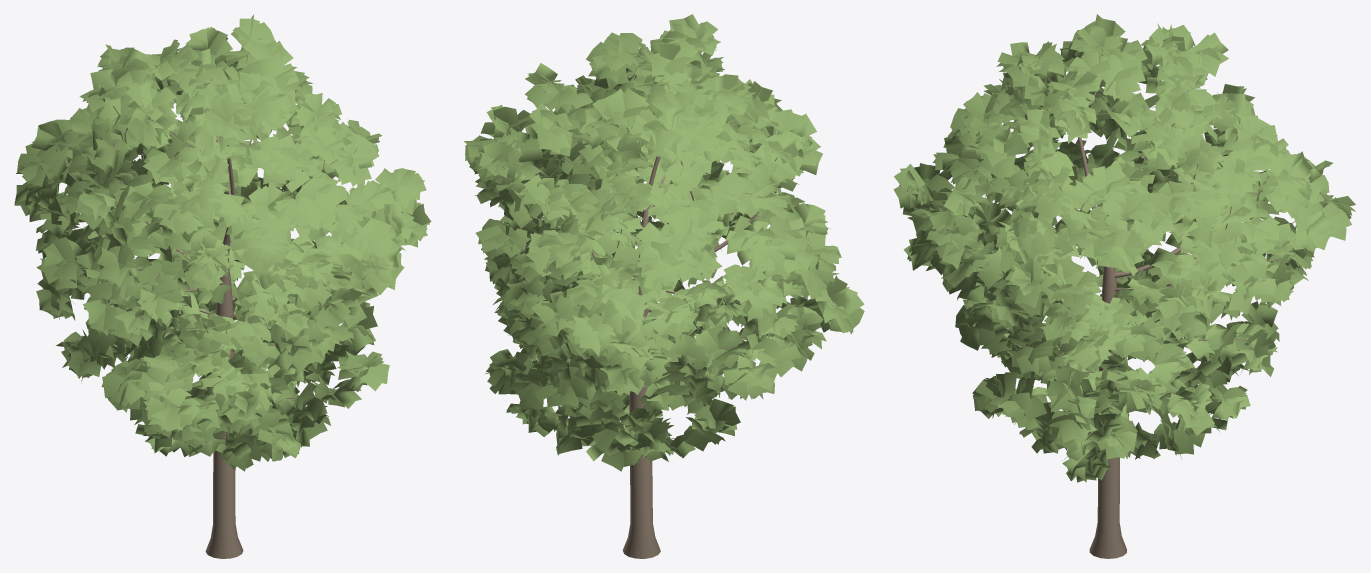
The model's file is Maple_1_lod0.glb.
The picture shows the model from 3 angles, left to right: view 1: azimuth 30°, elevation 25°; view 2: azimuth 150°, elevation 25°; view 3: azimuth 270°, elevation 25°; orthographic projection.
Visible parts, largest first — view 1: Maple_1_lod0; view 2: Maple_1_lod0; view 3: Maple_1_lod0.
Boxes of the visible parts, left/top/right/bottom form: Maple_1_lod0: left=14, top=14, right=431, bottom=558; Maple_1_lod0: left=464, top=14, right=864, bottom=558; Maple_1_lod0: left=893, top=14, right=1355, bottom=558.
Size of the model in its own units: 15.21 by 21.1 by 17.28.
